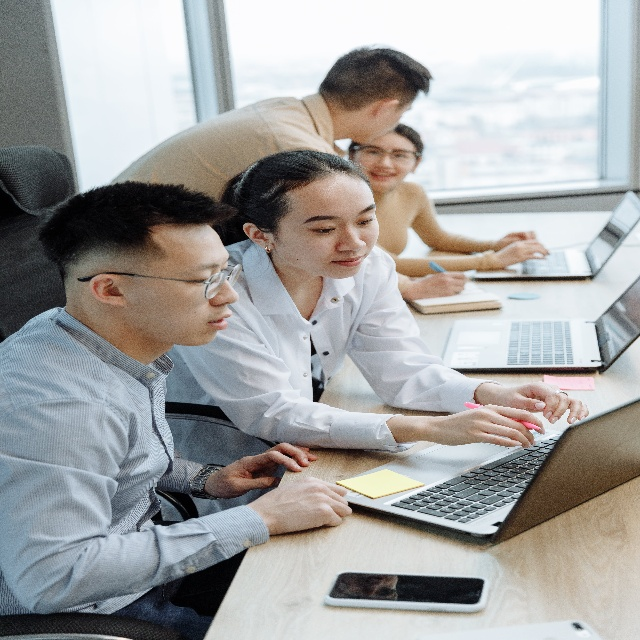Gafas: (76, 263, 242, 300), (352, 142, 421, 164)
Sin_guantes: (257, 476, 353, 534), (443, 403, 547, 455), (215, 443, 320, 493), (507, 382, 588, 430), (495, 239, 550, 269), (423, 269, 466, 300), (496, 228, 536, 252)
